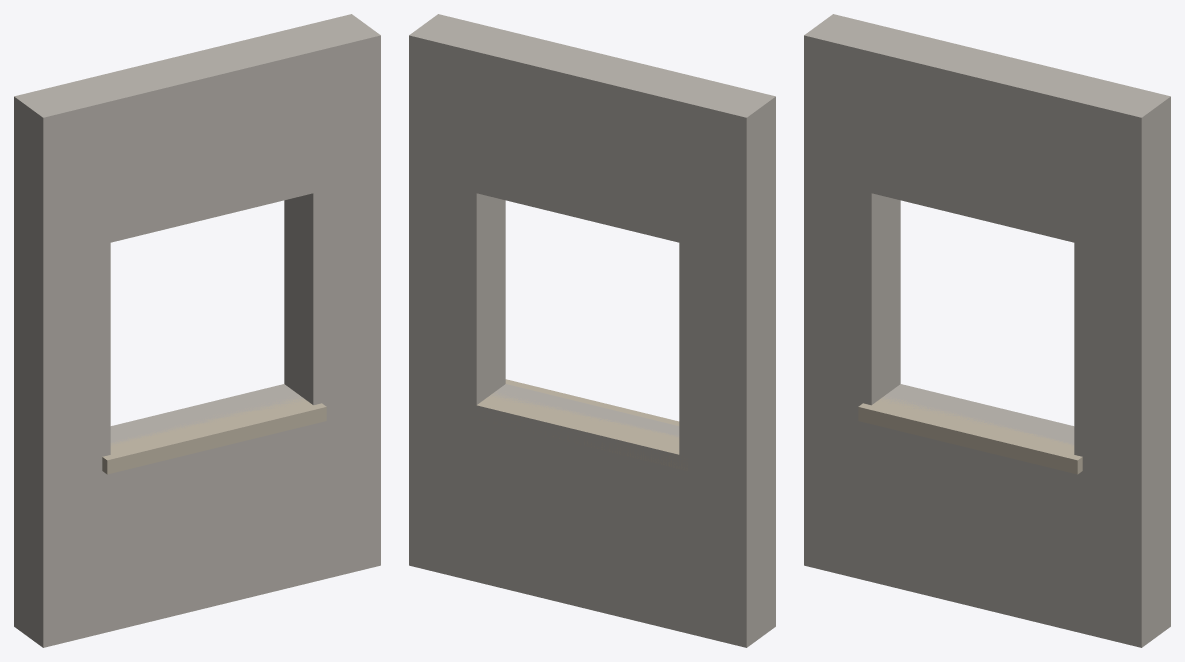
Rendered from window_wall.glb.
3 renders of one model, left to right at view 1: azimuth 30°, elevation 25°; view 2: azimuth 150°, elevation 25°; view 3: azimuth 330°, elevation 25°, orthographic.
Parts seen in each view (by area): view 1: WindowWall, WindowSill; view 2: WindowWall, WindowSill; view 3: WindowWall, WindowSill.
Part boxes in pixels (<box>): WindowWall: <box>14,14,380,647</box>; WindowSill: <box>102,395,326,474</box>; WindowWall: <box>409,14,775,647</box>; WindowSill: <box>474,379,687,470</box>; WindowWall: <box>804,14,1170,647</box>; WindowSill: <box>858,395,1082,474</box>.
Bounding box in the file's own units: 2 × 3 × 0.35.
